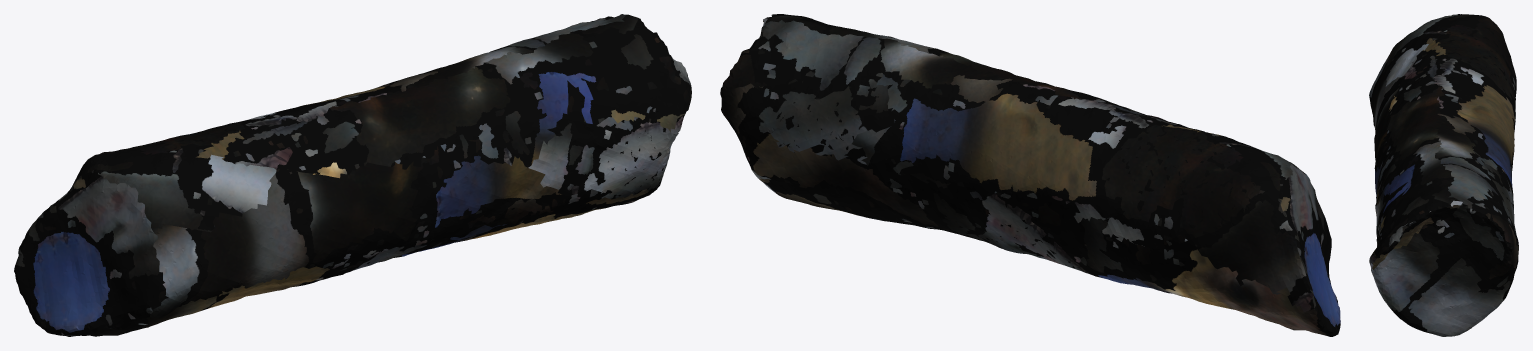
The model's file is center_benchmark_mesh_bottle-deodorant_spray.obj.
3 views of the same model, side by side, from view 1: azimuth 30°, elevation 25°; view 2: azimuth 150°, elevation 25°; view 3: azimuth 270°, elevation 25° (orthographic). The views are drawn at different scales.
Size of the model in its own units: 0.2198 by 0.0631 by 0.057.
